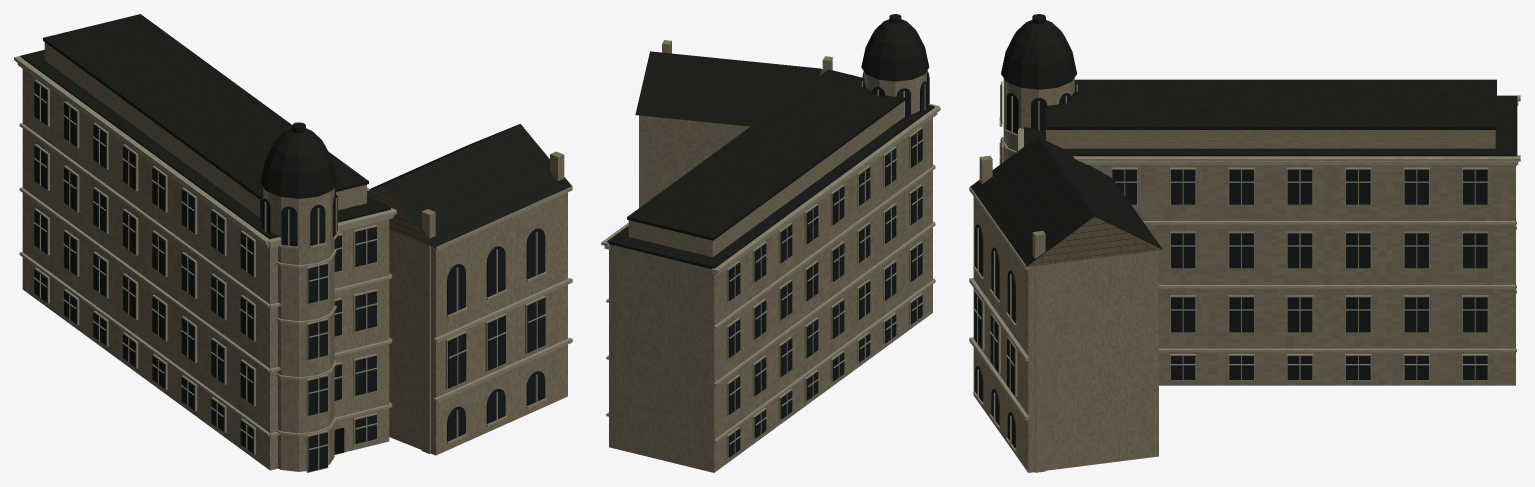
3 renders of one model, left to right at view 1: azimuth 30°, elevation 25°; view 2: azimuth 150°, elevation 25°; view 3: azimuth 270°, elevation 25°, orthographic. The views are drawn at different scales.
Visible parts, largest first — view 1: internatio-wolfshoek-0, internatio-wolfshoek-3, internatio-wolfshoek-2, internatio-wolfshoek-1, internatio-wolfshoek-5; view 2: internatio-wolfshoek-0, internatio-wolfshoek-3, internatio-wolfshoek-1, internatio-wolfshoek-2; view 3: internatio-wolfshoek-0, internatio-wolfshoek-3, internatio-wolfshoek-2, internatio-wolfshoek-1, internatio-wolfshoek-5.
Boxes of the visible parts, bbox=[...] form: internatio-wolfshoek-0: bbox=[22, 42, 567, 471]; internatio-wolfshoek-3: bbox=[20, 14, 572, 247]; internatio-wolfshoek-2: bbox=[34, 81, 545, 471]; internatio-wolfshoek-1: bbox=[14, 55, 572, 472]; internatio-wolfshoek-5: bbox=[367, 185, 435, 247]; internatio-wolfshoek-0: bbox=[609, 40, 932, 472]; internatio-wolfshoek-3: bbox=[607, 14, 934, 268]; internatio-wolfshoek-1: bbox=[601, 81, 940, 458]; internatio-wolfshoek-2: bbox=[728, 70, 929, 457]; internatio-wolfshoek-0: bbox=[973, 78, 1515, 472]; internatio-wolfshoek-3: bbox=[970, 14, 1517, 266]; internatio-wolfshoek-2: bbox=[974, 81, 1487, 448]; internatio-wolfshoek-1: bbox=[969, 84, 1520, 450]; internatio-wolfshoek-5: bbox=[1026, 216, 1162, 267].
Size of the model in its own units: 25.98 by 26.6 by 40.43.
Materials: 6 (6 with a texture image).
